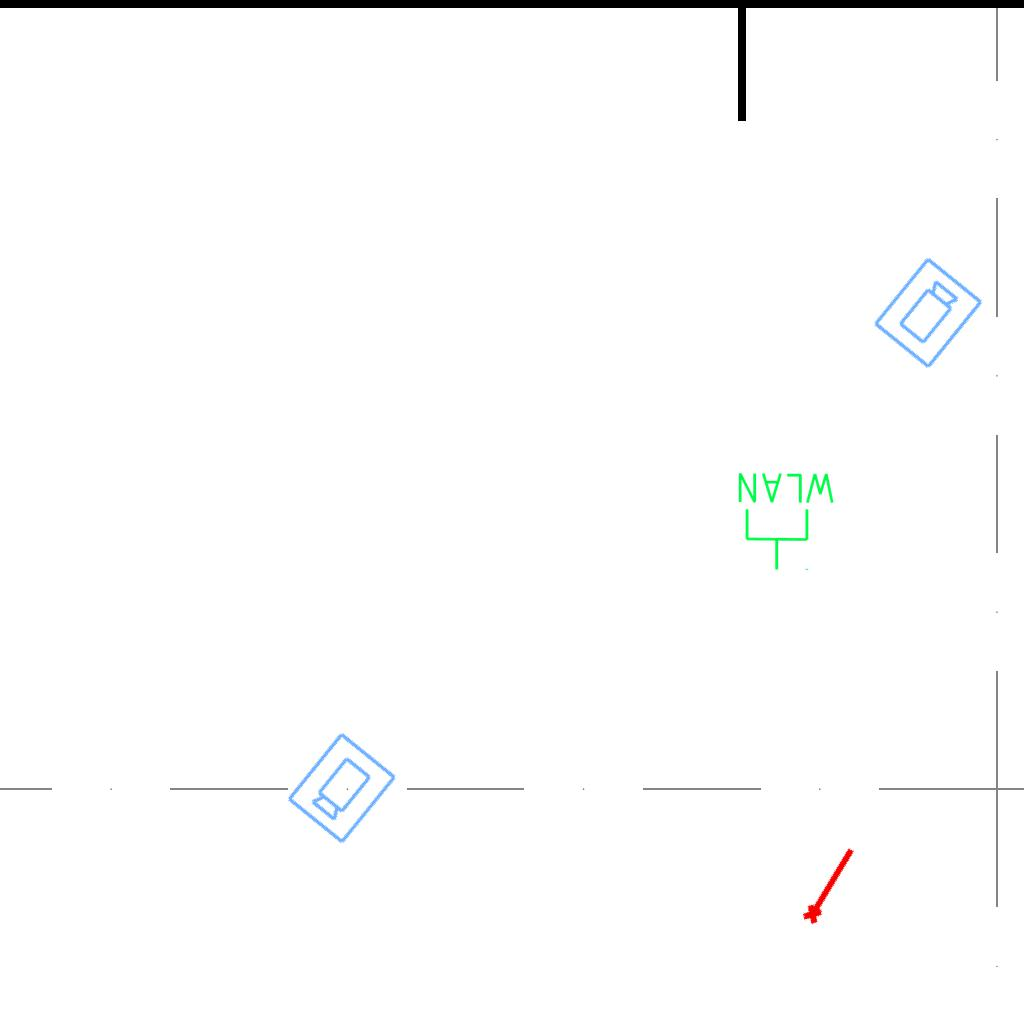ASR_Ansaugoeffnung: (796, 840, 862, 929)
KFO_Kamera_mit_Festobjektiv: (282, 727, 401, 848), (869, 253, 988, 374)
WLAN: (734, 469, 839, 573)
